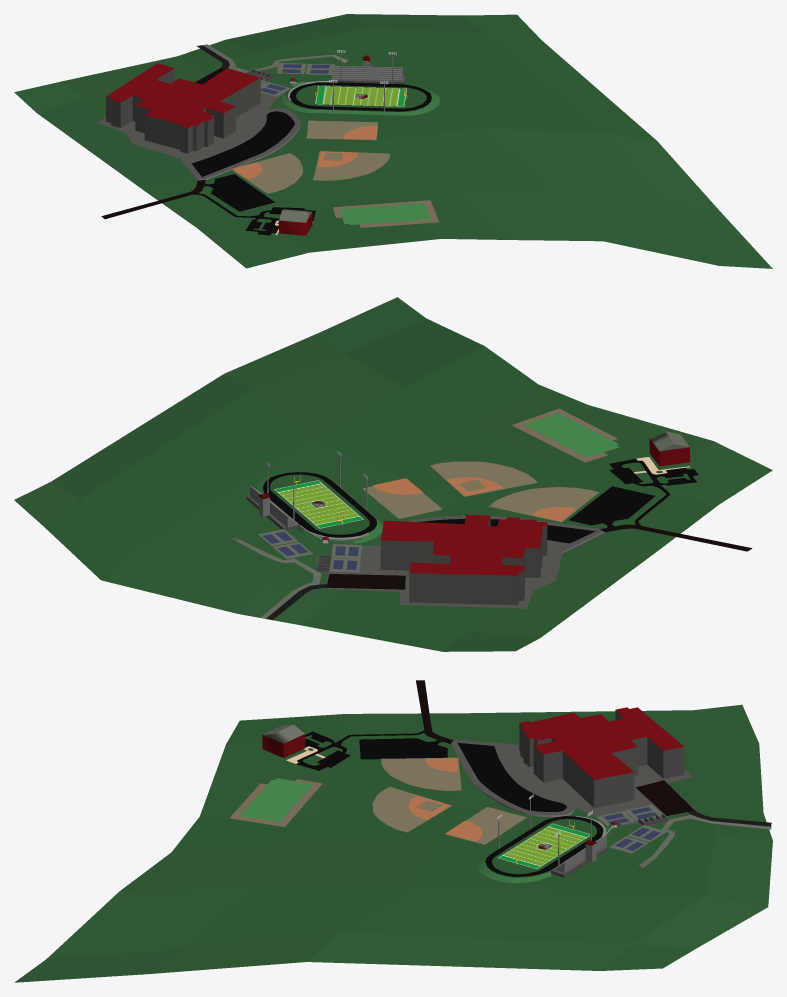
The model's file is ubroadneck.glb.
3 renders of one model, top to bottom at view 1: azimuth 30°, elevation 25°; view 2: azimuth 150°, elevation 25°; view 3: azimuth 270°, elevation 25°, orthographic. The views are drawn at different scales.
Visible parts, largest first — view 1: Plane.021, Cylinder.087, Cylinder.099, Cylinder.085; view 2: Plane.021, Cylinder.087, Cylinder.099, Cylinder.085; view 3: Plane.021, Cylinder.087, Cylinder.099, Cylinder.085.
Boxes of the visible parts, x1,y1,x2,y2 form: Plane.021: (14, 14, 772, 268); Cylinder.087: (97, 44, 438, 235); Cylinder.099: (106, 63, 260, 153); Cylinder.085: (282, 50, 439, 115); Plane.021: (14, 297, 772, 651); Cylinder.087: (231, 408, 752, 619); Cylinder.099: (380, 514, 547, 604); Cylinder.085: (246, 450, 382, 546); Plane.021: (14, 704, 772, 982); Cylinder.087: (229, 680, 771, 867); Cylinder.099: (519, 707, 684, 808); Cylinder.085: (478, 794, 623, 883).
Size of the model in its own units: 1.13 by 0.1456 by 1.28.
Materials: 24 (2 with a texture image).
